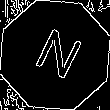N_SW: (26, 24, 84, 86)
